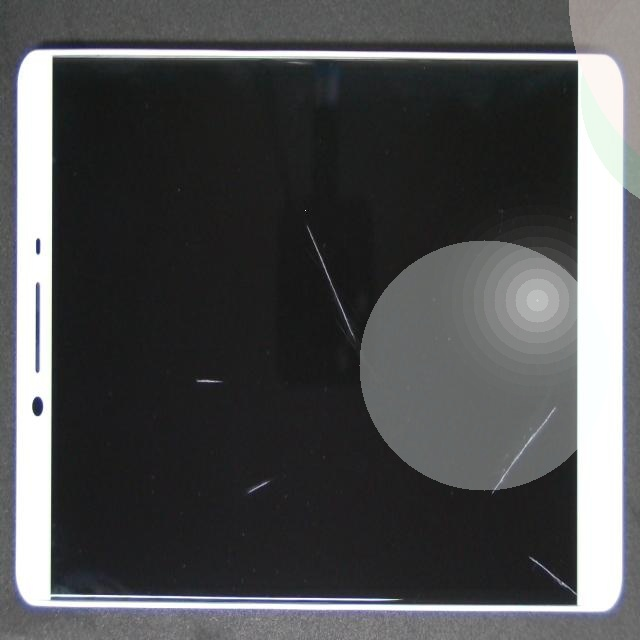scratch: (237, 234, 640, 640), (162, 195, 541, 531), (114, 217, 372, 640)
